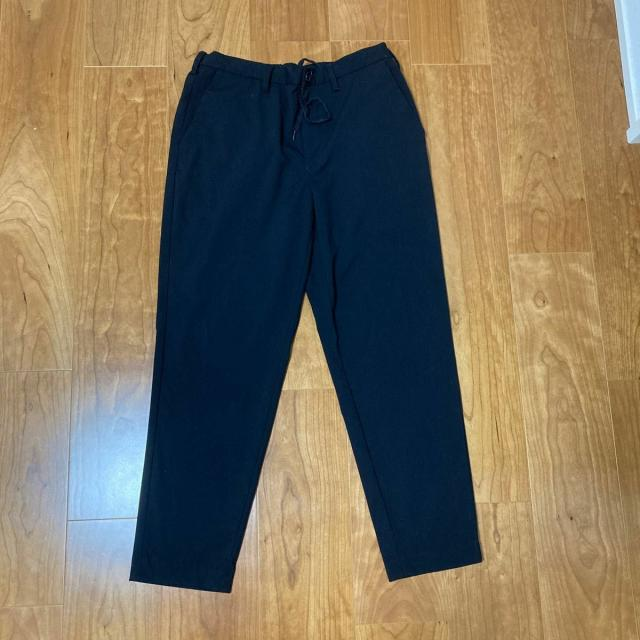long-pants: (122, 43, 488, 593)
